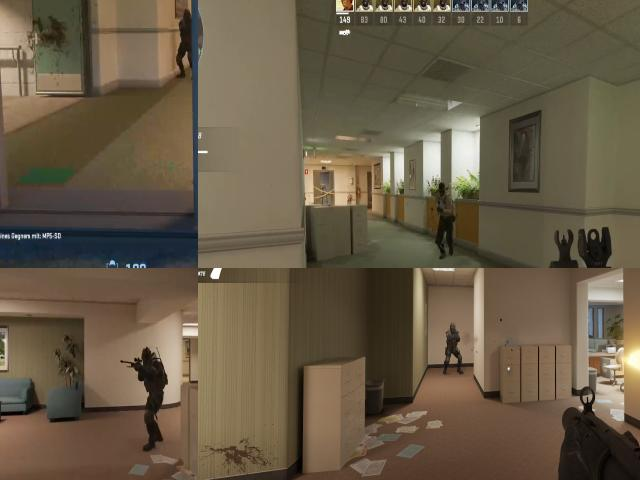CT: (137, 343, 169, 448), (178, 10, 192, 75), (445, 321, 461, 372)
CT-Head: (138, 346, 156, 365), (450, 323, 455, 331)
T: (435, 182, 453, 230)
T-Head: (435, 181, 450, 200)
